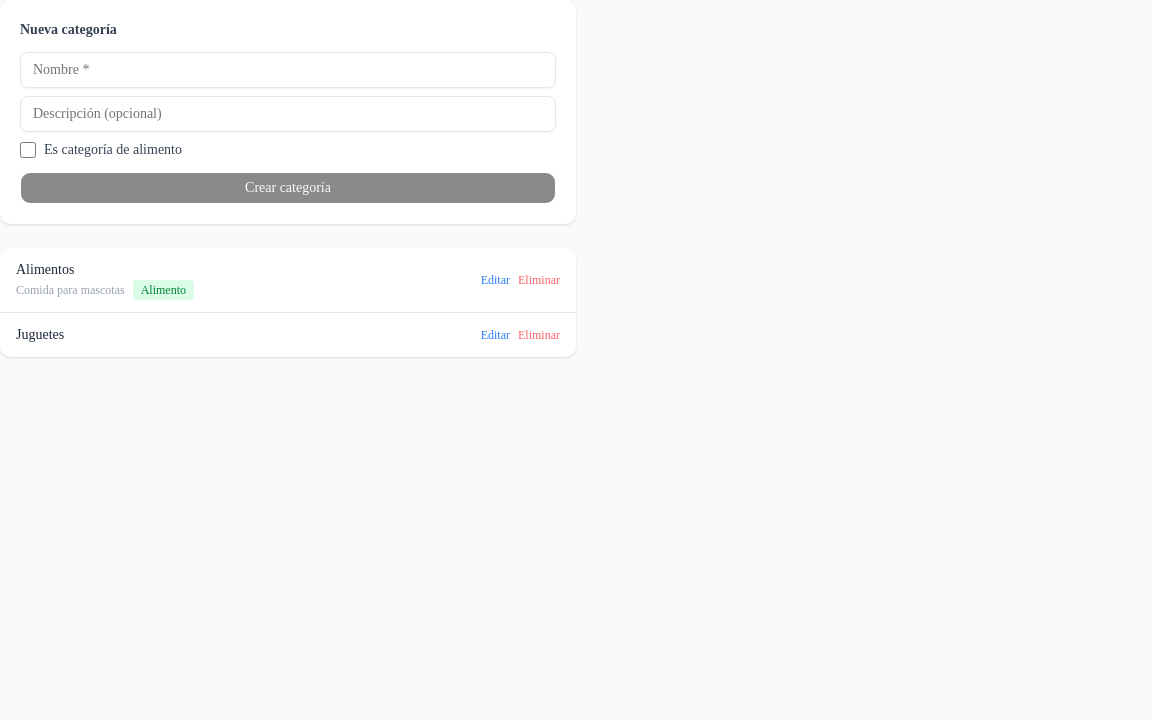
CategoriasTab — confirmación eliminar (CT-XX) › CT-01: click en Eliminar muestra modal de confirmación
Expected: the text "Alimentos" is shown, left=16, top=262, right=74, bottom=277
Click the button "Eliminar" in the row of "Comida para mascotas". click: point(539, 280)
box: left=518, top=272, right=560, bottom=288
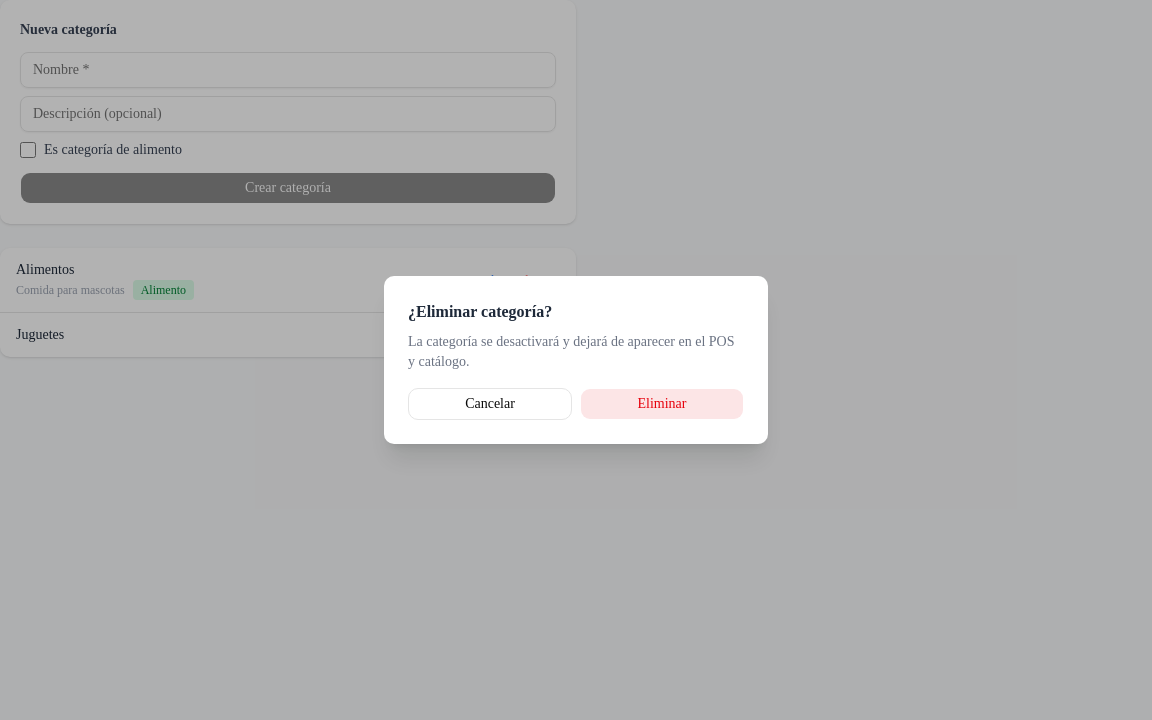
Result: the heading "¿Eliminar categoría?" is shown at left=408, top=303, right=552, bottom=320
Result: the button "Cancelar" is shown at left=408, top=388, right=572, bottom=420
